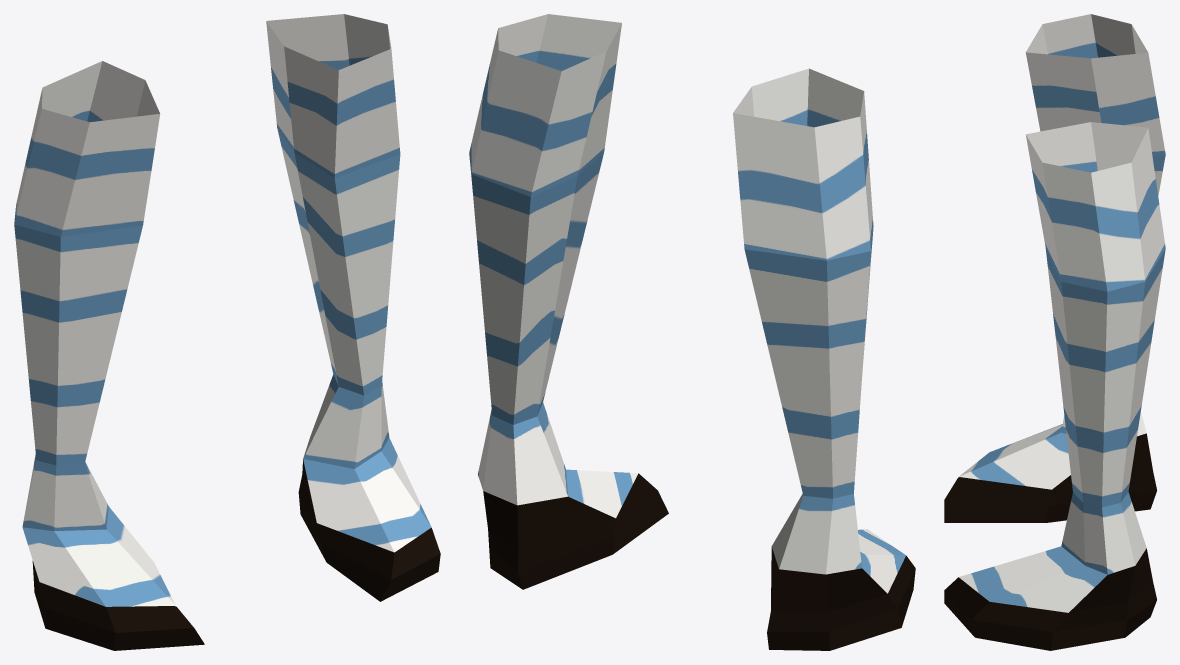
Rendered from longsockshoes.fbx.
3 renders of one model, left to right at view 1: azimuth 30°, elevation 25°; view 2: azimuth 150°, elevation 25°; view 3: azimuth 270°, elevation 25°, orthographic. The views are drawn at different scales.
Parts seen in each view (by area): view 1: Body.001; view 2: Body.001; view 3: Body.001.
Boxes of the visible parts, box(x1,y1,x2,y2) form: Body.001: box(14, 14, 440, 650); Body.001: box(469, 14, 915, 650); Body.001: box(944, 14, 1165, 650).
Bounding box in the file's own units: 105 × 131 × 55.67.
